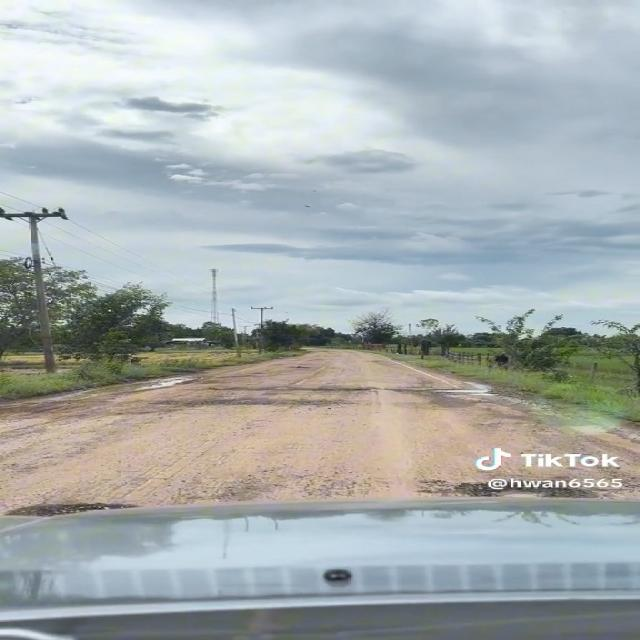Poth-hole: (73, 438, 252, 504)
